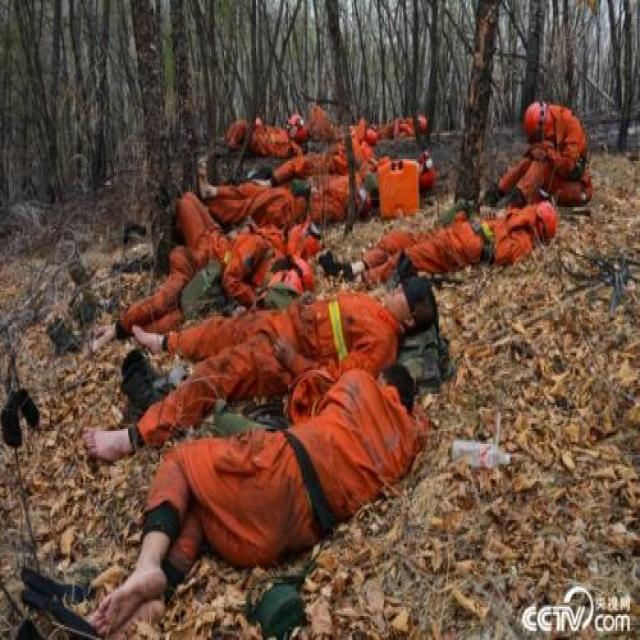fall: (100, 372, 415, 621), (343, 187, 561, 288)
